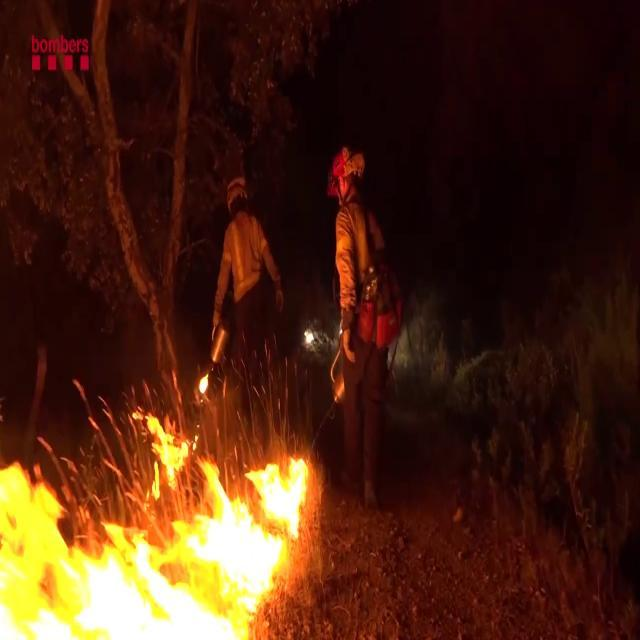Fire: (0, 391, 309, 640)
